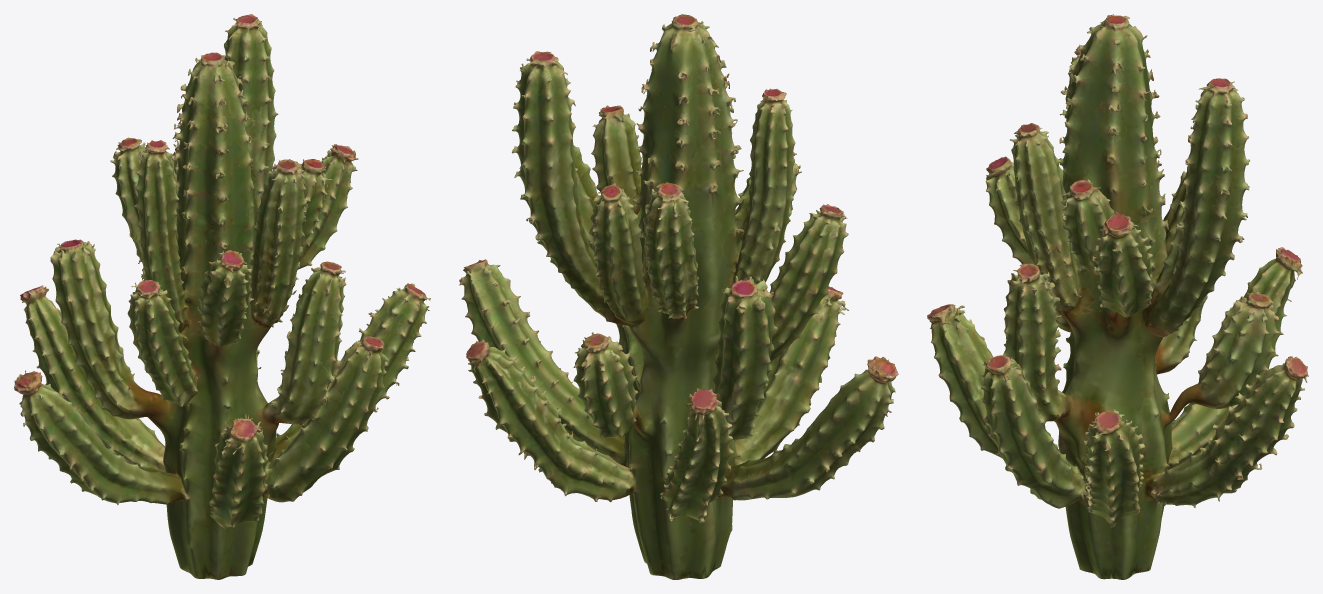
Rendered from ChollaCactus-optimized.glb.
3 views of the same model, side by side, from view 1: azimuth 30°, elevation 25°; view 2: azimuth 150°, elevation 25°; view 3: azimuth 270°, elevation 25° (orthographic). The views are drawn at different scales.
Visible parts, largest first — view 1: mesh_node; view 2: mesh_node; view 3: mesh_node.
Part boxes in pixels (box(x1,y1,x2,y2)): mesh_node: box(14, 14, 430, 579); mesh_node: box(459, 14, 898, 579); mesh_node: box(927, 14, 1308, 579).
Size of the model in its own units: 1.58 by 1.89 by 1.2.
Materials: 1 (1 with a texture image).
